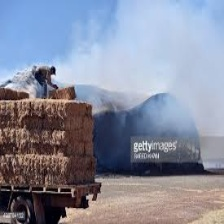smoke: (111, 15, 207, 87)
